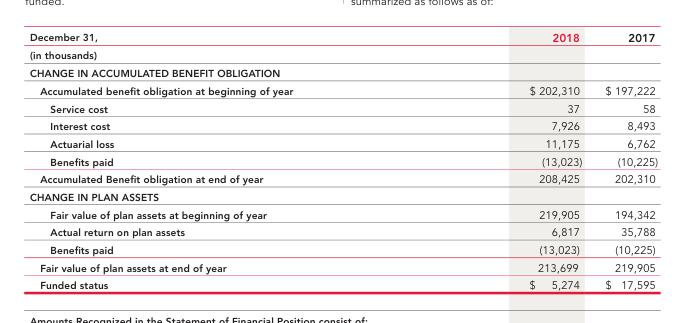table: (28, 29, 657, 291)
table column: (28, 29, 410, 291), (410, 29, 592, 291), (592, 29, 657, 291)
table column header: (28, 29, 657, 46)
table projected row header: (28, 46, 657, 64), (28, 187, 657, 205), (28, 64, 657, 81)
table row: (28, 46, 657, 64), (28, 81, 657, 99), (28, 99, 657, 117), (28, 134, 657, 152), (28, 152, 657, 170), (28, 187, 657, 205), (28, 205, 657, 223), (28, 240, 657, 258), (28, 258, 657, 276), (28, 29, 657, 46), (28, 64, 657, 81), (28, 117, 657, 134), (28, 170, 657, 187), (28, 223, 657, 240), (28, 276, 657, 291)
